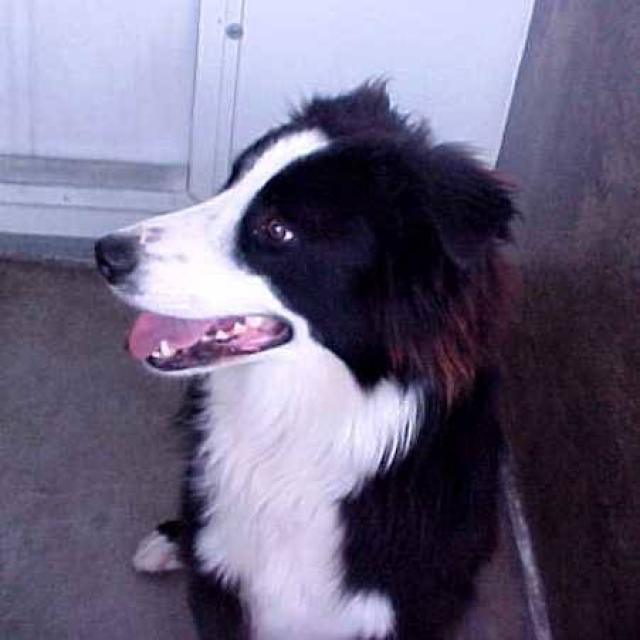Dog: (59, 58, 550, 430)
